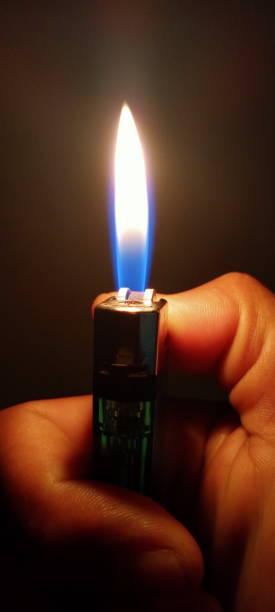Fire: (104, 87, 155, 290)
